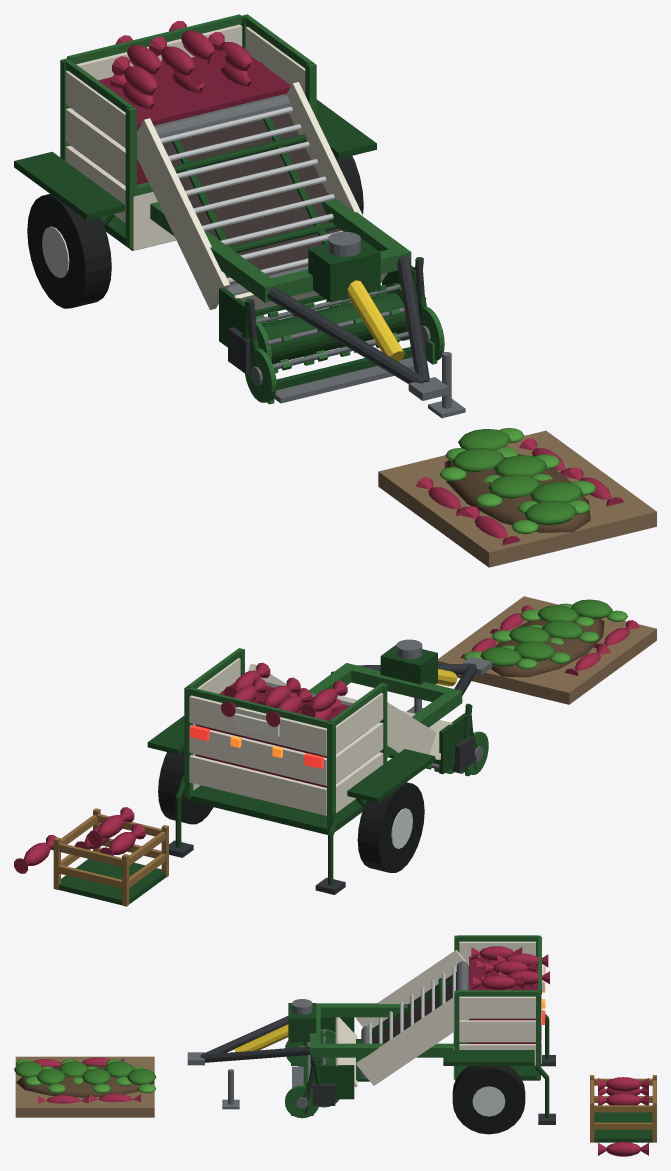
File: sweet_potato_harvester.glb
The picture shows the model from 3 angles, top to bottom: view 1: azimuth 30°, elevation 25°; view 2: azimuth 150°, elevation 25°; view 3: azimuth 270°, elevation 25°; orthographic projection. The views are drawn at different scales.
Visible parts, largest first — view 1: SweetPotatoBody, SweetPotatoProps, SweetPotatoPickup; view 2: SweetPotatoBody, SweetPotatoProps; view 3: SweetPotatoBody, SweetPotatoProps, SweetPotatoPickup.
Part boxes in pixels (x1=…): SweetPotatoBody: x1=14, y1=14, x2=465, y2=418; SweetPotatoProps: x1=378, y1=428, x2=656, y2=567; SweetPotatoPickup: x1=255, y1=283, x2=409, y2=373; SweetPotatoBody: x1=147, y1=639, x2=492, y2=894; SweetPotatoProps: x1=14, y1=596, x2=656, y2=906; SweetPotatoBody: x1=187, y1=935, x2=555, y2=1134; SweetPotatoProps: x1=14, y1=1056, x2=656, y2=1156; SweetPotatoPickup: x1=305, y1=1029, x2=339, y2=1107.
Size of the model in its own units: 3.07 by 1.65 by 7.4.
